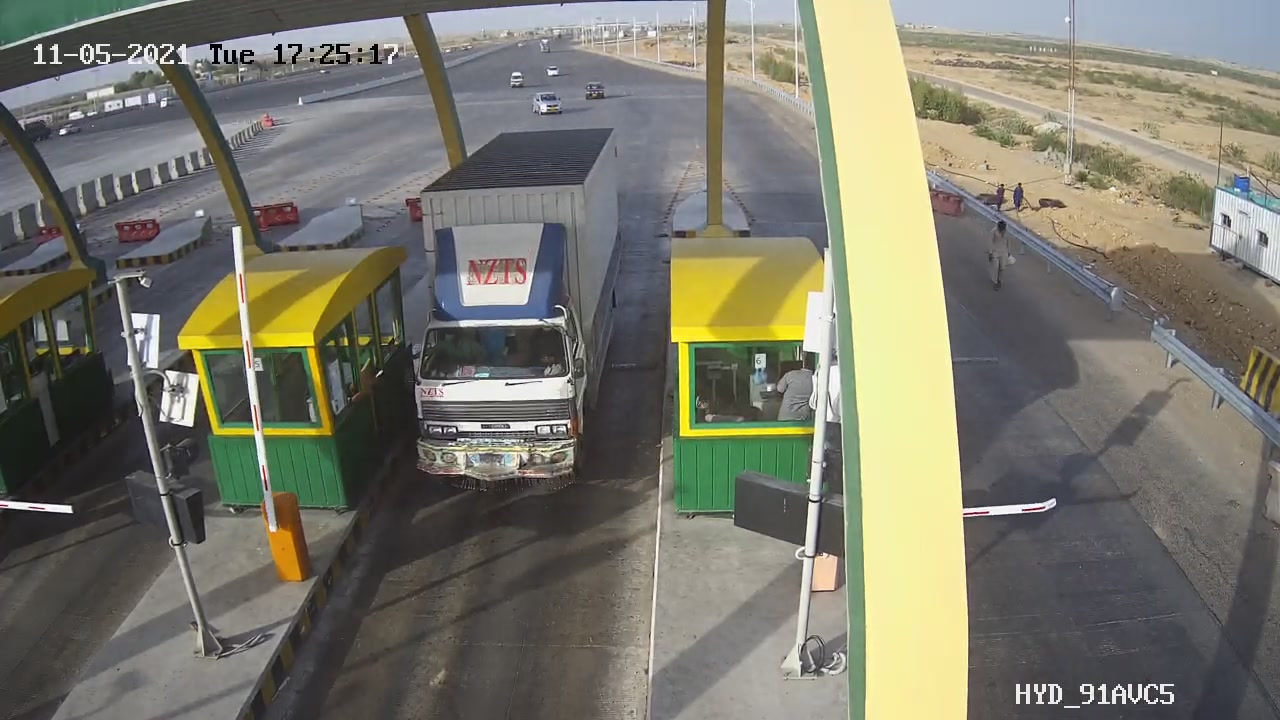F5: (387, 112, 651, 517)
